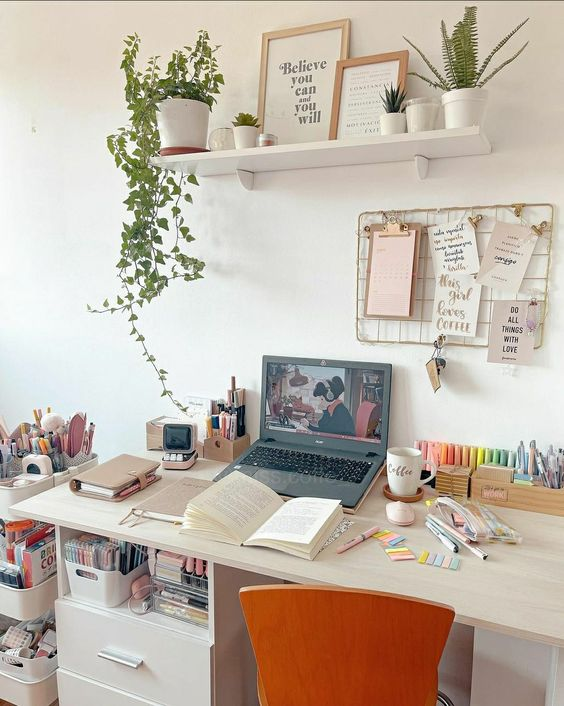not a gesture sign: (240, 585, 453, 705)
